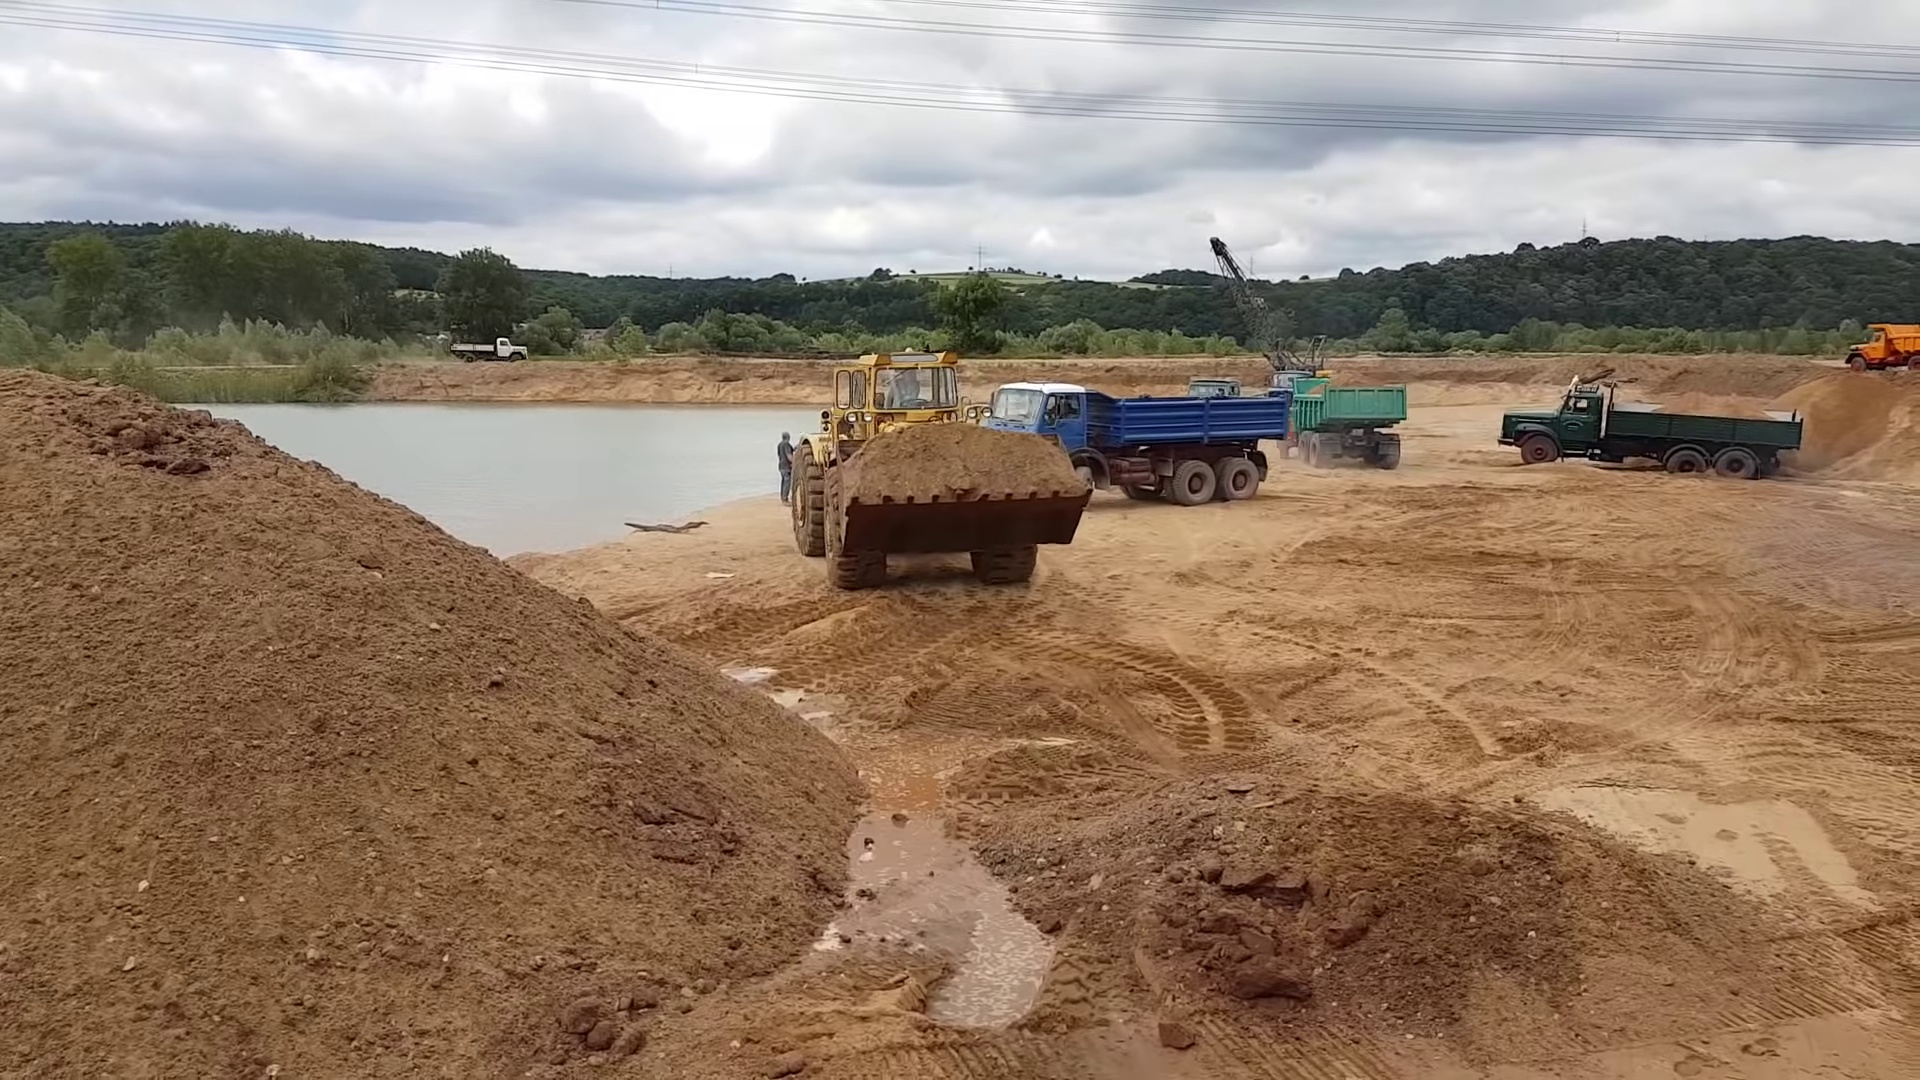person: (782, 433, 791, 497)
truck: (988, 382, 1296, 499), (1496, 382, 1803, 487), (1275, 374, 1410, 463), (1852, 315, 1920, 368), (452, 337, 528, 367)
wheel loader: (794, 350, 1091, 599)
